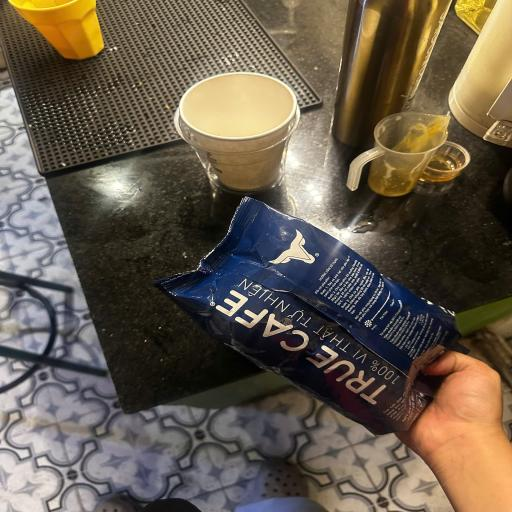cafe_hat: (155, 197, 459, 434)
